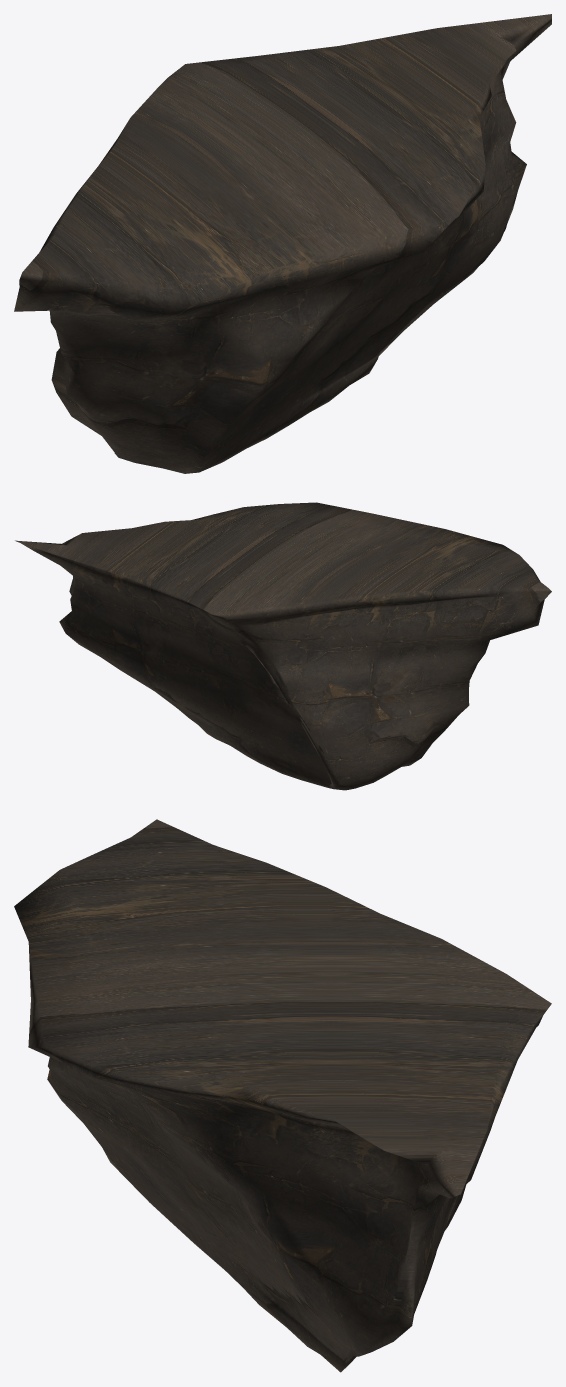
File: cliff_shelf_a_lod1.gltf
3 renders of one model, top to bottom at view 1: azimuth 30°, elevation 25°; view 2: azimuth 150°, elevation 25°; view 3: azimuth 270°, elevation 25°, orthographic. The views are drawn at different scales.
Visible parts, largest first — view 1: cliff_shelf_a_LOD1; view 2: cliff_shelf_a_LOD1; view 3: cliff_shelf_a_LOD1.
Boxes of the visible parts, left/top/right/bottom form: cliff_shelf_a_LOD1: left=14, top=14, right=551, bottom=473; cliff_shelf_a_LOD1: left=15, top=502, right=551, bottom=790; cliff_shelf_a_LOD1: left=14, top=819, right=551, bottom=1372.
Bounding box in the file's own units: 17.07 × 7 × 10.18.
Materials: 1 (1 with a texture image).
